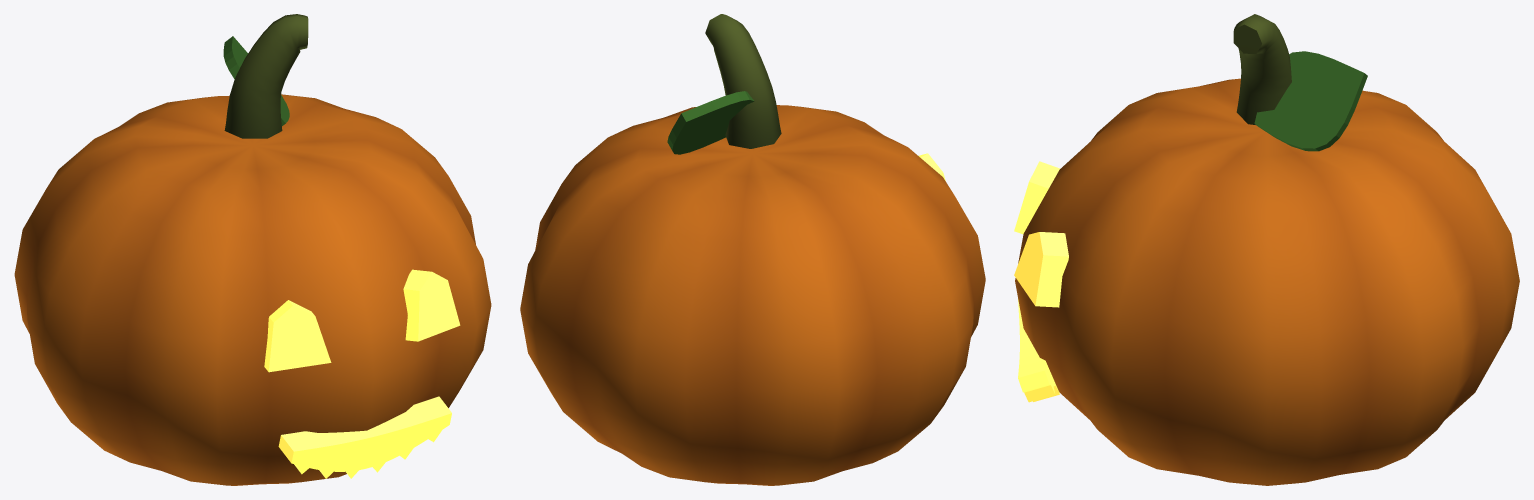
The picture shows the model from 3 angles, left to right: view 1: azimuth 30°, elevation 25°; view 2: azimuth 150°, elevation 25°; view 3: azimuth 270°, elevation 25°; orthographic projection. The views are drawn at different scales.
Parts seen in each view (by area): view 1: Pumpkin; view 2: Pumpkin; view 3: Pumpkin.
Boxes of the visible parts, box(x1,y1,x2,y2) form: Pumpkin: box(14, 14, 491, 485); Pumpkin: box(520, 14, 985, 485); Pumpkin: box(1014, 14, 1519, 485).
Bounding box in the file's own units: 0.9 × 0.8533 × 0.9016.
